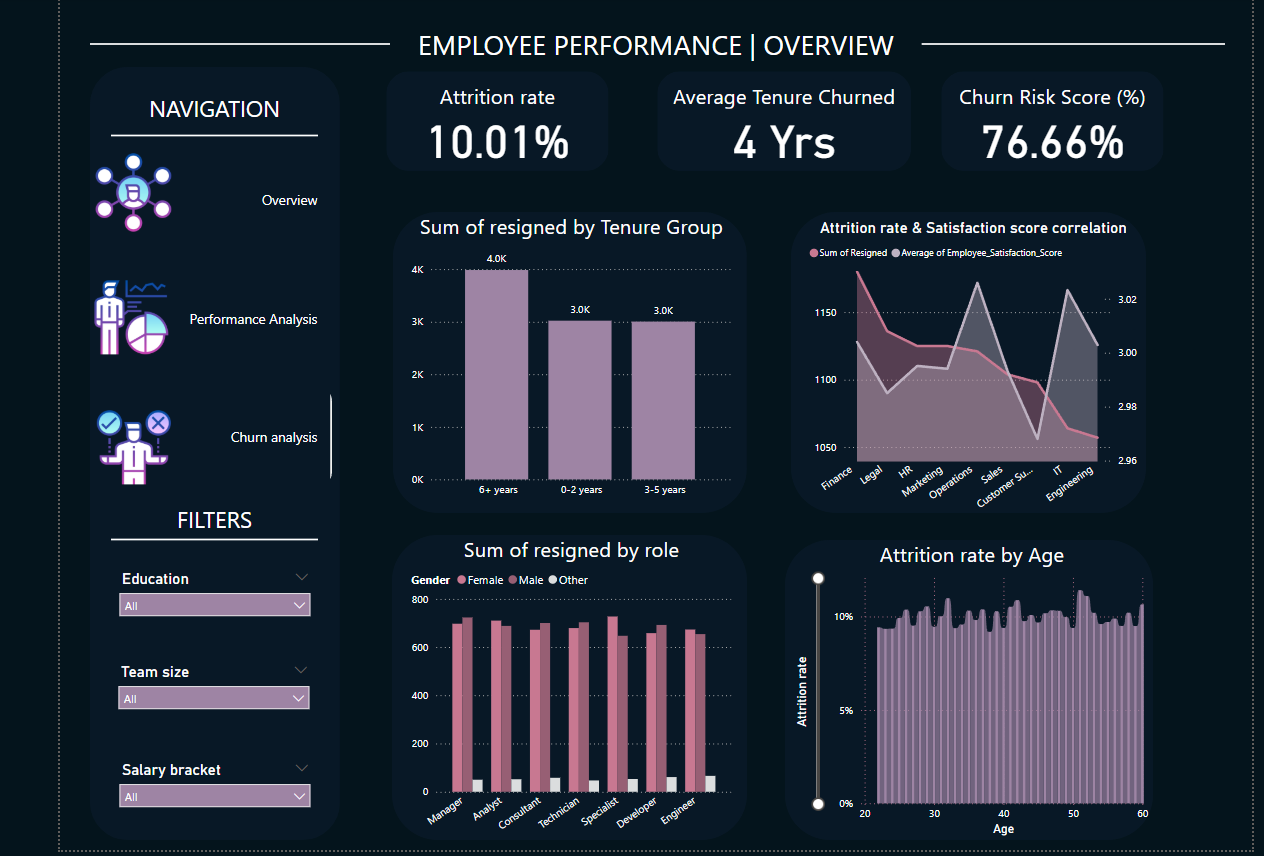

The dashboard page shown, as its layout file describes it:
{"tool":"powerbi","page":{"name":"Churn analysis","canvas":[1400,1000],"ordinal":2},"visuals":[{"type":"shape","box":[29.3,0,1332.2,89.2],"z":0},{"type":"textbox","box":[359.2,0,679.6,71.6],"z":1000},{"type":"shape","box":[35.2,81,293.4,907.3],"z":2000},{"type":"shape","box":[389.7,630.3,416.7,358],"z":3000},{"type":"shape","box":[858,251.2,416.7,353.3],"z":4000},{"type":"shape","box":[850.9,636.2,431.9,352.1],"z":5000},{"type":"shape","box":[390.8,251.2,415.5,353.3],"z":6000},{"type":"clusteredColumnChart","title":"Sum of resigned by Tenure Group","fields":{"Category":["Extended_Employee_Performance_and_Productivity_Data.Tenure Group"],"Y":["Sum(Extended_Employee_Performance_and_Productivity_Data.Resigned)"]},"box":[407.3,251.2,386.2,343.9],"z":7000},{"type":"lineClusteredColumnComboChart","title":"Sum of resigned by role","fields":{"Category":["Extended_Employee_Performance_and_Productivity_Data.Job_Title"],"Series":["Extended_Employee_Performance_and_Productivity_Data.Gender"],"Y":["Sum(Extended_Employee_Performance_and_Productivity_Data.Resigned)"]},"box":[407.3,630.3,386.2,369.7],"z":8000},{"type":"cardVisual","title":"Total Employee","fields":{"Data":["Extended_Employee_Performance_and_Productivity_Data.Attrition rate"]},"box":[377.9,81,271.1,127.9],"z":9000},{"type":"cardVisual","title":"Total Employee","fields":{"Data":["Extended_Employee_Performance_and_Productivity_Data.Avg_Tenure_Churned"]},"box":[696,81,308.7,127.9],"z":10000},{"type":"shape","box":[59.9,145.5,243,31.7],"z":11000},{"type":"shape","box":[59.9,619.7,243,31.7],"z":12000},{"type":"textbox","box":[76.3,105.6,210.1,48.1],"z":13000},{"type":"textbox","box":[76.3,588,210.1,48.1],"z":14000},{"type":"pageNavigator","box":[35.2,177.2,284,399.1],"z":15000},{"type":"image","box":[35.2,177.2,102.1,102.1],"z":16000},{"type":"image","box":[35.2,478.9,102.1,97.4],"z":17000},{"type":"image","box":[35.2,326.3,97.4,97.4],"z":18000},{"type":"areaChart","title":"Attrition rate & Satisfaction score correlation","fields":{"Category":["Extended_Employee_Performance_and_Productivity_Data.Department"],"Y":["Sum(Extended_Employee_Performance_and_Productivity_Data.Resigned)"],"Y2":["Avg(Extended_Employee_Performance_and_Productivity_Data.Employee_Satisfaction_Score)"]},"box":[874.4,259.4,395.5,353.3],"z":19000},{"type":"ribbonChart","fields":{"Category":["Extended_Employee_Performance_and_Productivity_Data.Age"],"Y":["Extended_Employee_Performance_and_Productivity_Data.Attrition rate"]},"box":[858,636.2,424.9,352.1],"z":20000},{"type":"slicer","fields":{"Values":["Extended_Employee_Performance_and_Productivity_Data.Education_Level"]},"box":[59.9,665.5,244.1,69.2],"z":21000},{"type":"slicer","fields":{"Values":["Extended_Employee_Performance_and_Productivity_Data.Team size"]},"box":[58.7,774.6,244.1,69.2],"z":22000},{"type":"slicer","fields":{"Values":["Extended_Employee_Performance_and_Productivity_Data.Salary bracket"]},"box":[59.9,889.7,244.1,69.2],"z":23000},{"type":"cardVisual","title":"Total Employee","fields":{"Data":["Extended_Employee_Performance_and_Productivity_Data.Churn Risk Score (%)"]},"box":[1029.3,81,271.1,127.9],"z":24000}]}

Visuals, with their boxes on the page's 1400x1000 design canvas (x1, y1, x2, y2). These are canvas units, not pixel positions in the 1264x856 screenshot, which may show the page scaled, cropped or inside an application window:
shape: bbox=[29, 0, 1362, 89]
textbox: bbox=[359, 0, 1039, 72]
shape: bbox=[35, 81, 329, 988]
shape: bbox=[390, 630, 806, 988]
shape: bbox=[858, 251, 1275, 604]
shape: bbox=[851, 636, 1283, 988]
shape: bbox=[391, 251, 806, 604]
"Sum of resigned by Tenure Group" clusteredColumnChart: bbox=[407, 251, 794, 595]
"Sum of resigned by role" lineClusteredColumnComboChart: bbox=[407, 630, 794, 1000]
"Total Employee" cardVisual: bbox=[378, 81, 649, 209]
"Total Employee" cardVisual: bbox=[696, 81, 1005, 209]
shape: bbox=[60, 146, 303, 177]
shape: bbox=[60, 620, 303, 651]
textbox: bbox=[76, 106, 286, 154]
textbox: bbox=[76, 588, 286, 636]
pageNavigator: bbox=[35, 177, 319, 576]
image: bbox=[35, 177, 137, 279]
image: bbox=[35, 479, 137, 576]
image: bbox=[35, 326, 133, 424]
"Attrition rate & Satisfaction score correlation" areaChart: bbox=[874, 259, 1270, 613]
ribbonChart - Extended_Employee_Performance_and_Productivity_Data.Age x Extended_Employee_Performance_and_Productivity_Data.Attrition rate: bbox=[858, 636, 1283, 988]
slicer - Extended_Employee_Performance_and_Productivity_Data.Education_Level: bbox=[60, 666, 304, 735]
slicer - Extended_Employee_Performance_and_Productivity_Data.Team size: bbox=[59, 775, 303, 844]
slicer - Extended_Employee_Performance_and_Productivity_Data.Salary bracket: bbox=[60, 890, 304, 959]
"Total Employee" cardVisual: bbox=[1029, 81, 1300, 209]
